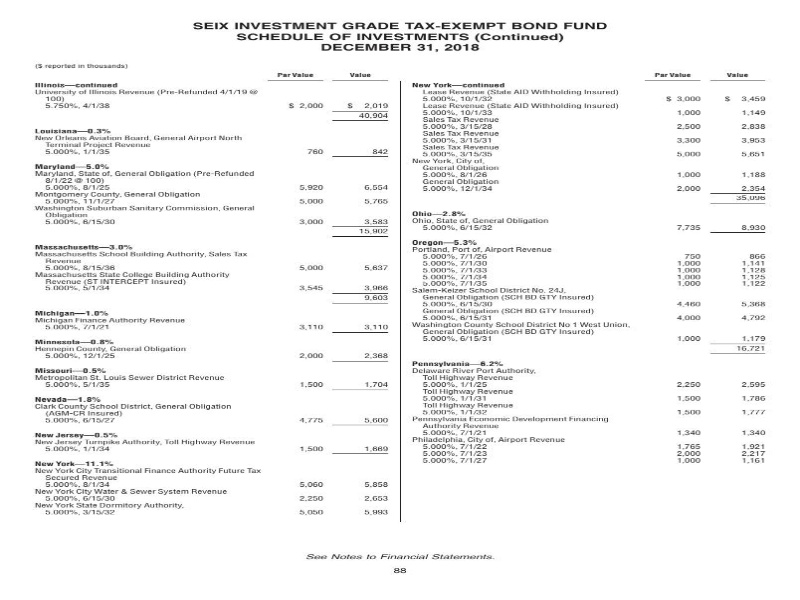table: (21, 57, 408, 535), (394, 66, 788, 530)
